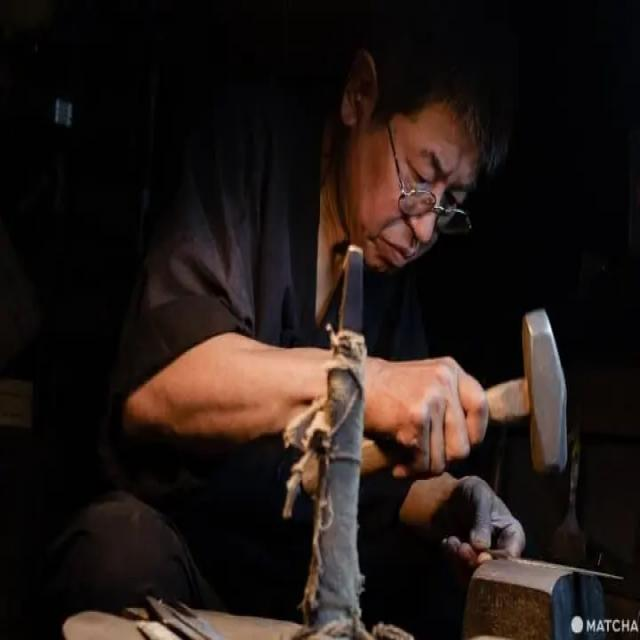hammer: (284, 294, 580, 508)
